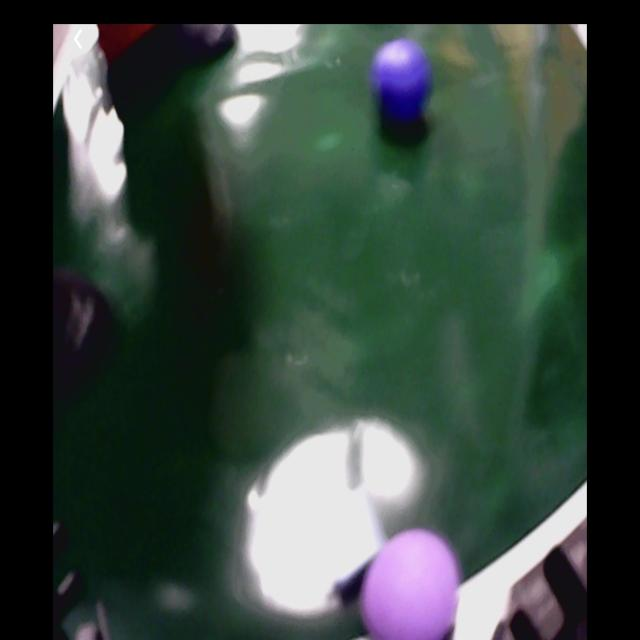ball: (361, 529, 458, 640), (373, 38, 433, 125)
